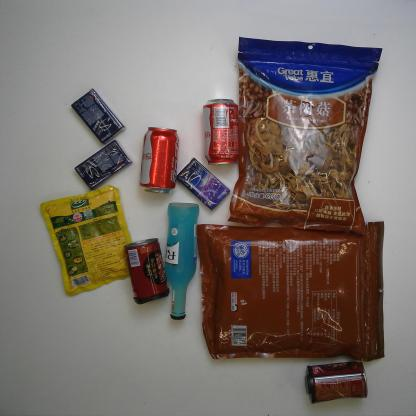Alcohol: (161, 200, 200, 321)
Canned Food: (122, 236, 171, 306), (303, 358, 369, 405)
Dried Food: (228, 35, 384, 237), (195, 219, 386, 362)
Drink: (199, 97, 243, 167), (137, 125, 181, 194)
Gum: (70, 87, 127, 145), (176, 156, 232, 212), (74, 139, 134, 190)
Seasoner: (39, 184, 135, 297)
